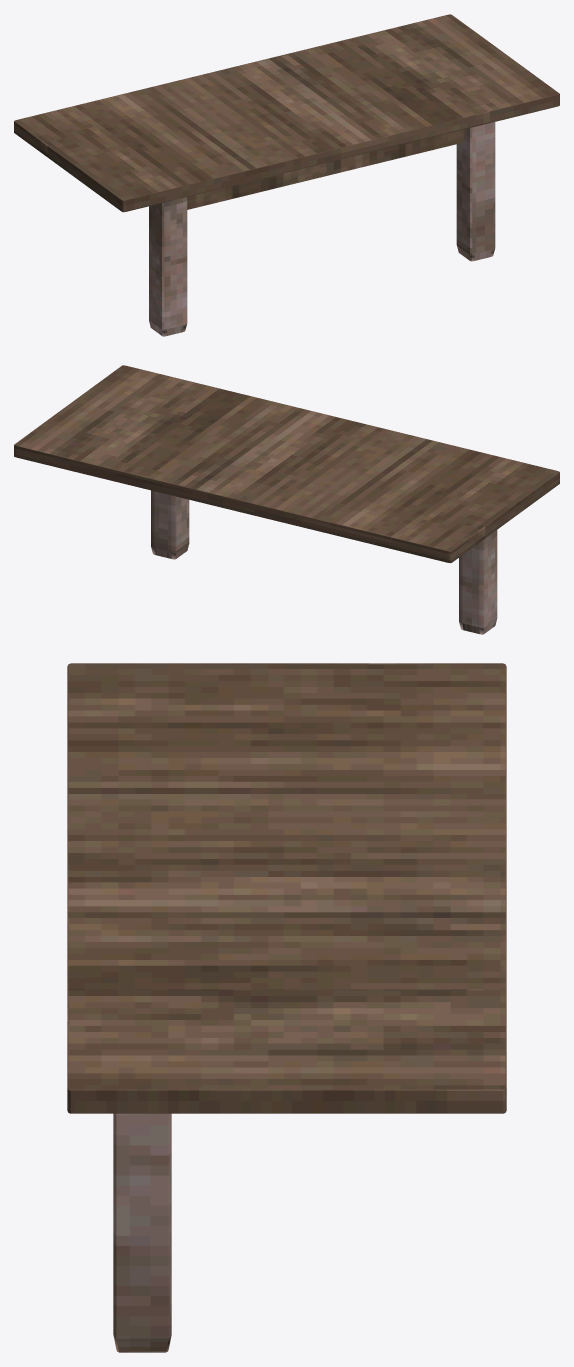
Rendered from stol.fbx.
The picture shows the model from 3 angles, top to bottom: view 1: azimuth 30°, elevation 25°; view 2: azimuth 150°, elevation 25°; view 3: azimuth 270°, elevation 25°; orthographic projection. The views are drawn at different scales.
Visible parts, largest first — view 1: Cube; view 2: Cube; view 3: Cube.
Part boxes in pixels (x1,y1,x2,y2): Cube: (14,14,559,336); Cube: (14,365,559,634); Cube: (67,663,506,1352).
Size of the model in its own units: 1248 by 429 by 542.
